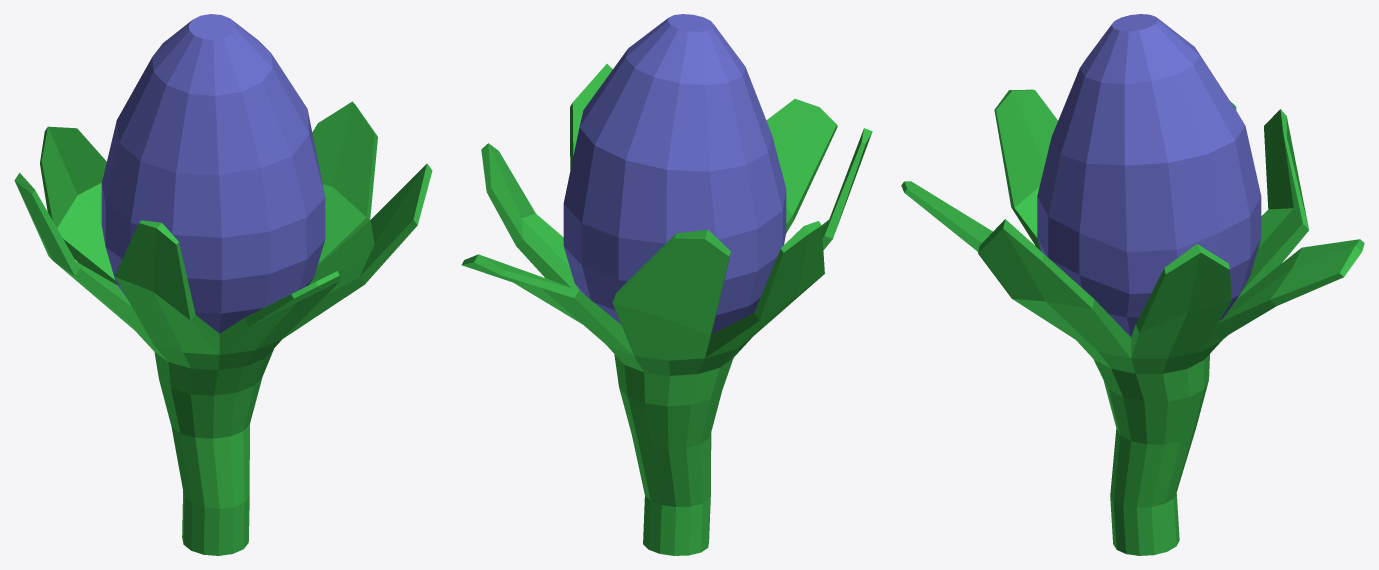
File: plant2.fbx
3 renders of one model, left to right at view 1: azimuth 30°, elevation 25°; view 2: azimuth 150°, elevation 25°; view 3: azimuth 270°, elevation 25°, orthographic.
Parts seen in each view (by area): view 1: Cylinder; view 2: Cylinder; view 3: Cylinder.
Part boxes in pixels (<box>): Cylinder: <box>14,14,432,555</box>; Cylinder: <box>461,14,872,555</box>; Cylinder: <box>901,14,1364,555</box>.
Bounding box in the file's own units: 476 × 703 × 568.
